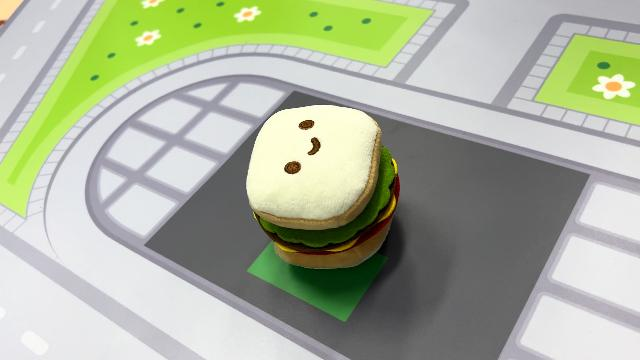sandwich: (244, 102, 402, 270)
